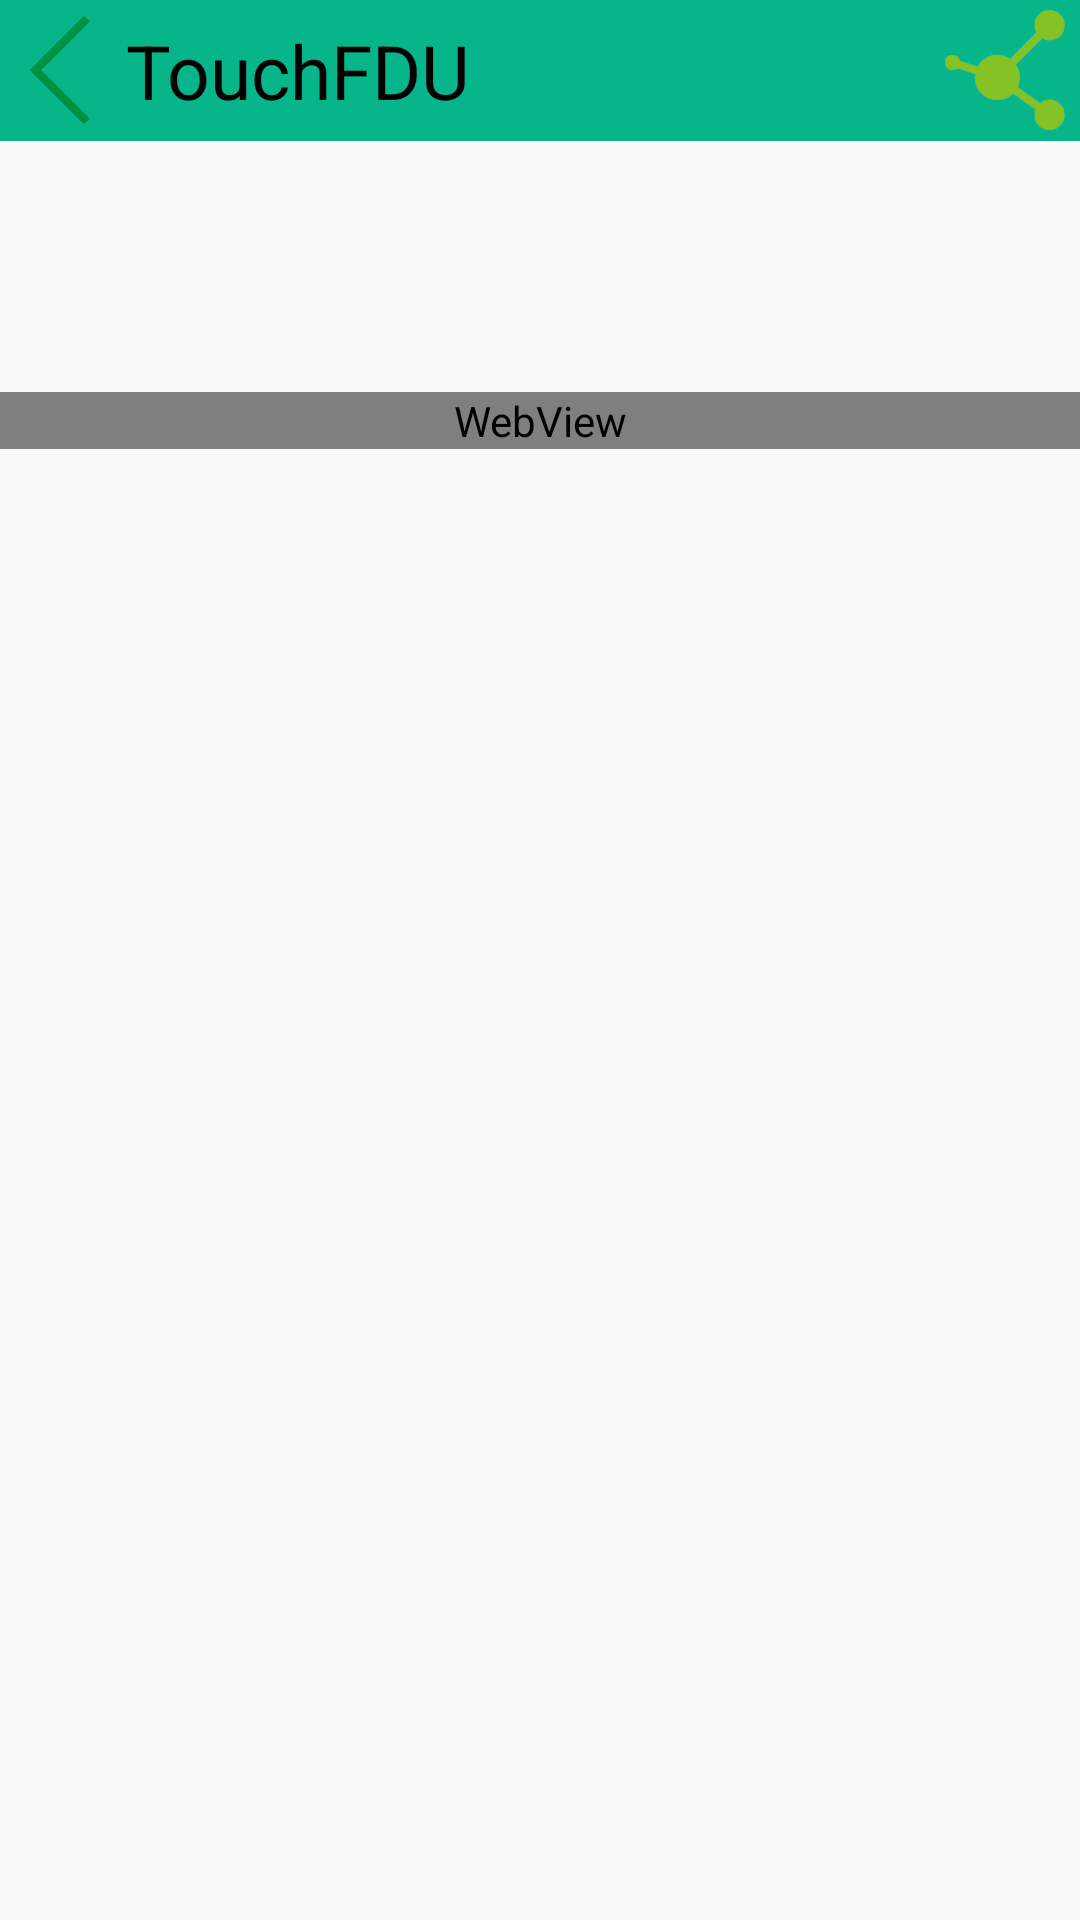

Icon bounding boxes for this 1080×1920 phone screenshot, format (x1, y1, x2, y2):
back: (30, 16, 90, 124)
share: (945, 10, 1065, 130)
